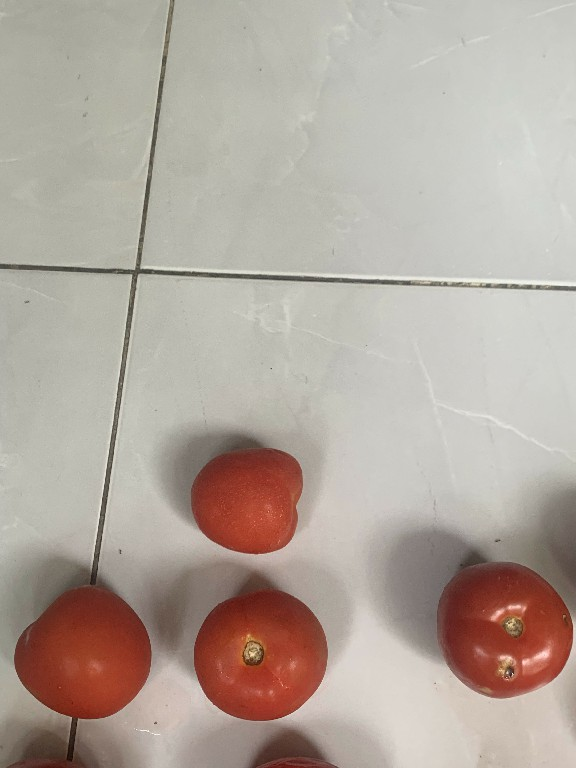NG: (433, 550, 575, 709)
OK: (186, 586, 331, 730), (11, 584, 156, 727), (191, 444, 308, 562)
